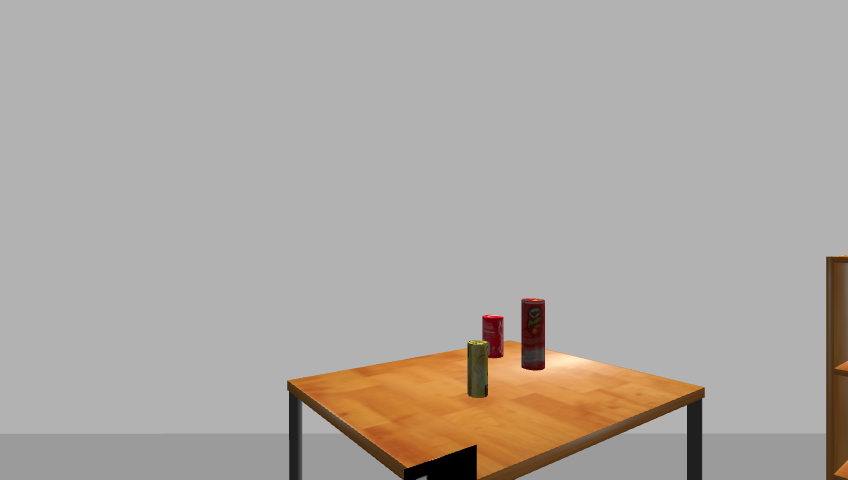aruco marker: (399, 445, 482, 480)
biscuits pack: (467, 339, 490, 399)
bookshelf: (821, 257, 848, 480)
coke can: (481, 315, 505, 360)
dinner table: (277, 342, 714, 480)
pringles can: (518, 298, 548, 372)
